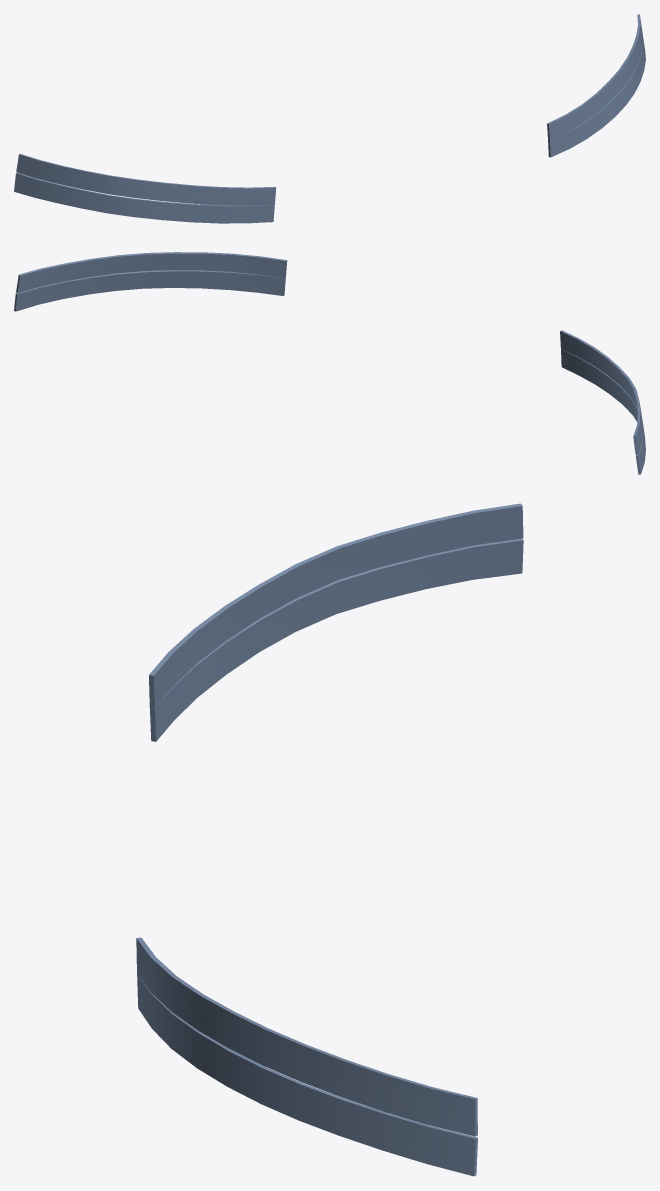
Rendered from SM_CarlosSA_Jacket_WaistPockets_StraightJetted.fbx.
3 renders of one model, top to bottom at view 1: azimuth 30°, elevation 25°; view 2: azimuth 150°, elevation 25°; view 3: azimuth 270°, elevation 25°, orthographic. The views are drawn at different scales.
Parts seen in each view (by area): view 1: SM_CarlosSA_Jacket_WaistPockets_StraightJetted; view 2: SM_CarlosSA_Jacket_WaistPockets_StraightJetted; view 3: SM_CarlosSA_Jacket_WaistPockets_StraightJetted.
Part boxes in pixels (left/top/right/bottom): SM_CarlosSA_Jacket_WaistPockets_StraightJetted: left=14, top=14, right=645, bottom=223; SM_CarlosSA_Jacket_WaistPockets_StraightJetted: left=14, top=252, right=645, bottom=474; SM_CarlosSA_Jacket_WaistPockets_StraightJetted: left=136, top=503, right=523, bottom=1176.
Size of the model in its own units: 0.3236 by 0.0202 by 0.0876.
